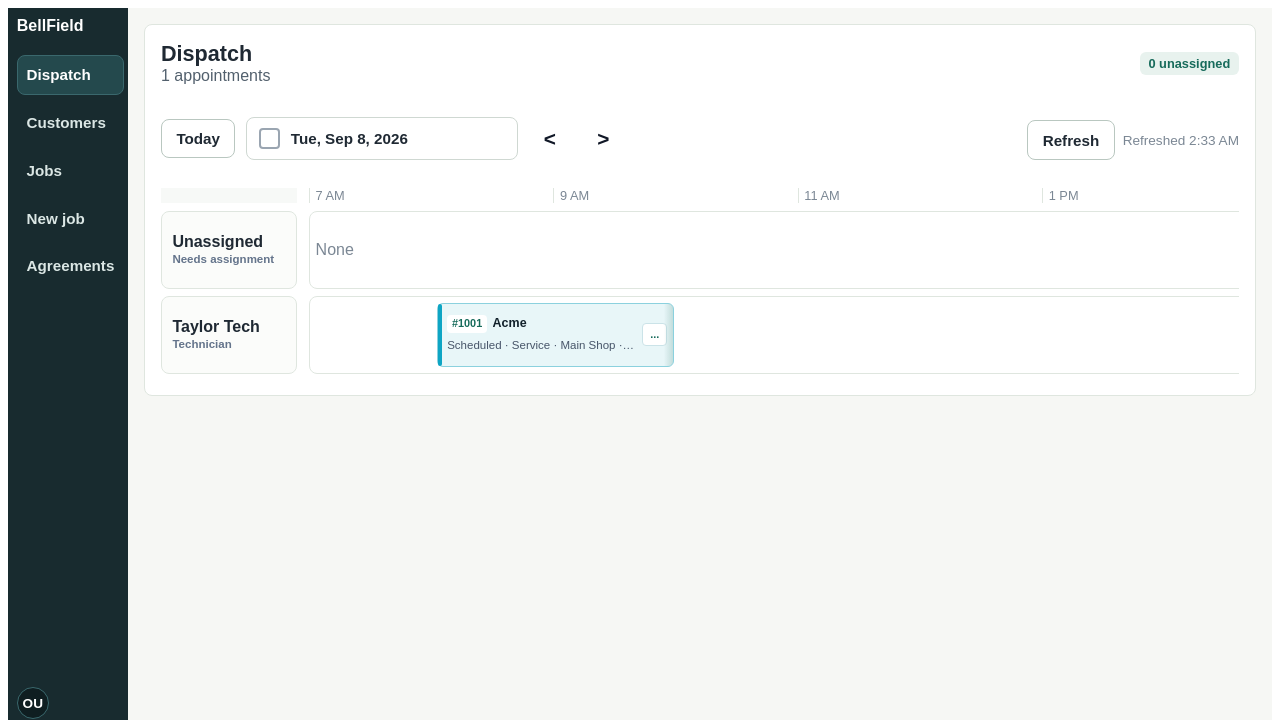
Test: OfficeWorkspaceShell IA › shows Agreements only with agreements:view and opens the workbench
The width and height of the screenshot is (1280, 720).
Expected: the element named "Dispatch board" is shown, [144,24,1256,396]
Click the button "Agreements": (70, 266) [17,246,124,286]
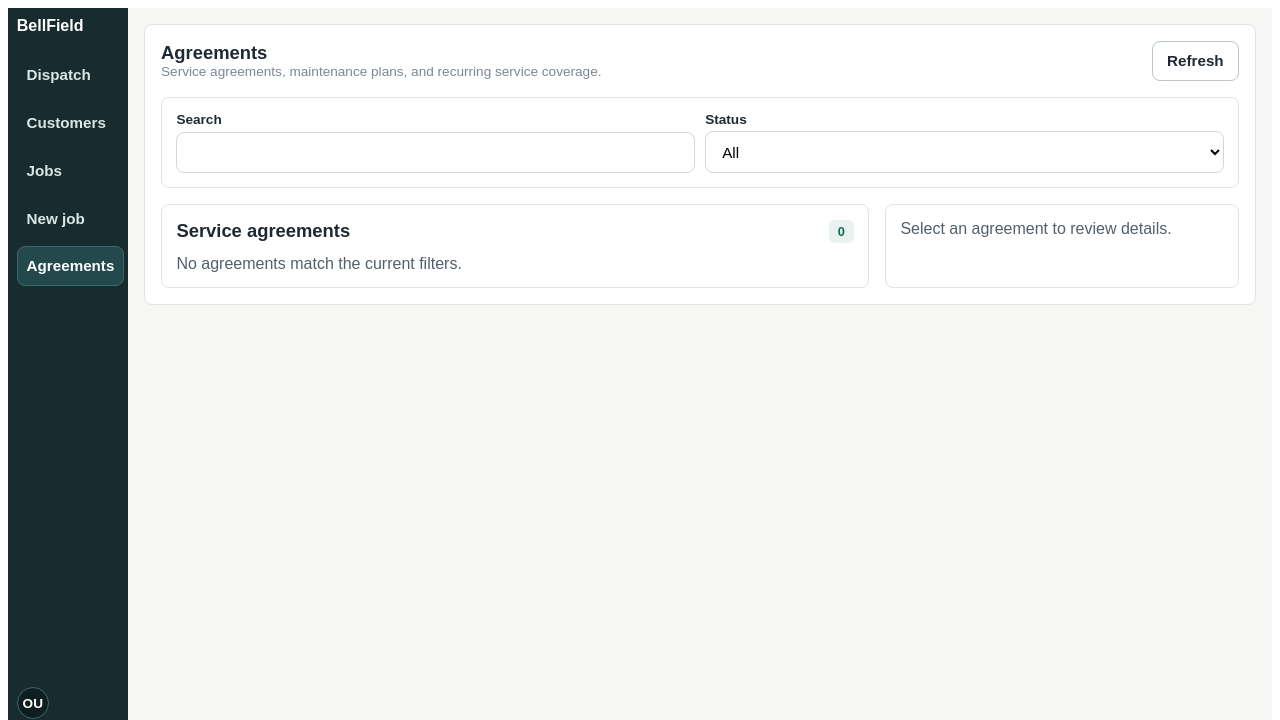
Expected: the element "Agreements" is shown, [144,24,1256,305]
